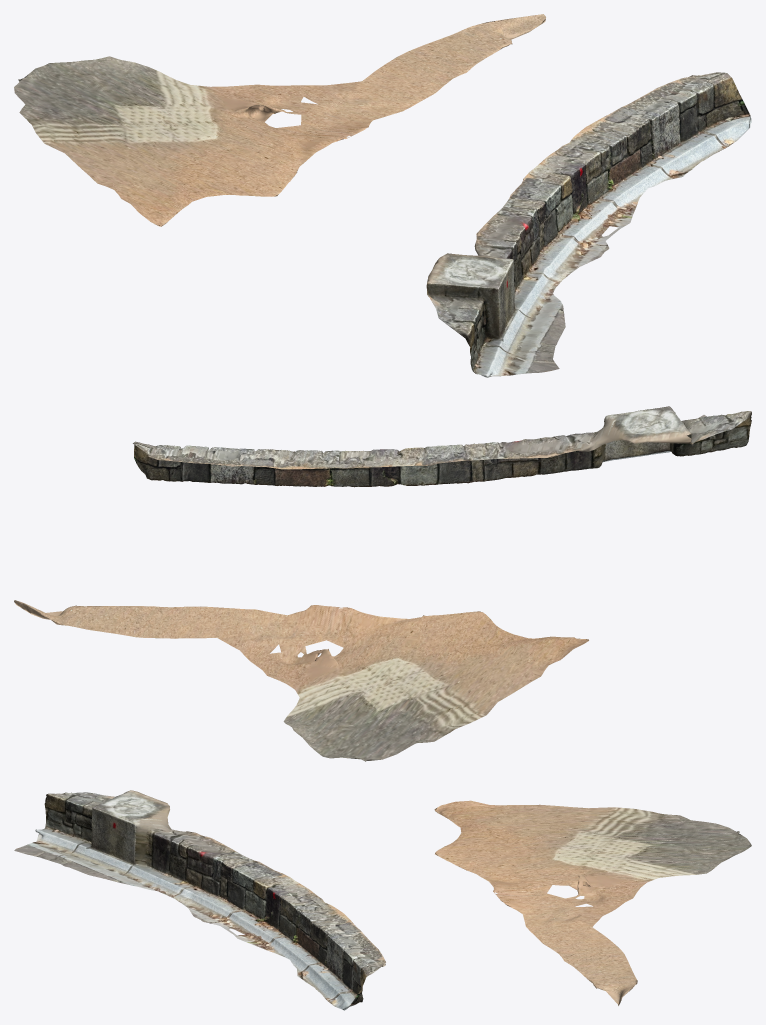
The picture shows the model from 3 angles, top to bottom: view 1: azimuth 30°, elevation 25°; view 2: azimuth 150°, elevation 25°; view 3: azimuth 270°, elevation 25°; orthographic projection. The views are drawn at different scales.
Visible parts, largest first — view 1: baked_mesh_0d5c8097; view 2: baked_mesh_0d5c8097; view 3: baked_mesh_0d5c8097.
Part boxes in pixels (x1=…): baked_mesh_0d5c8097: x1=14, y1=14, x2=751, y2=377; baked_mesh_0d5c8097: x1=14, y1=406, x2=751, y2=761; baked_mesh_0d5c8097: x1=14, y1=790, x2=751, y2=1010.
Bounding box in the file's own units: 0.6016 × 0.0775 × 0.8783.
1 material, 1 textured.
